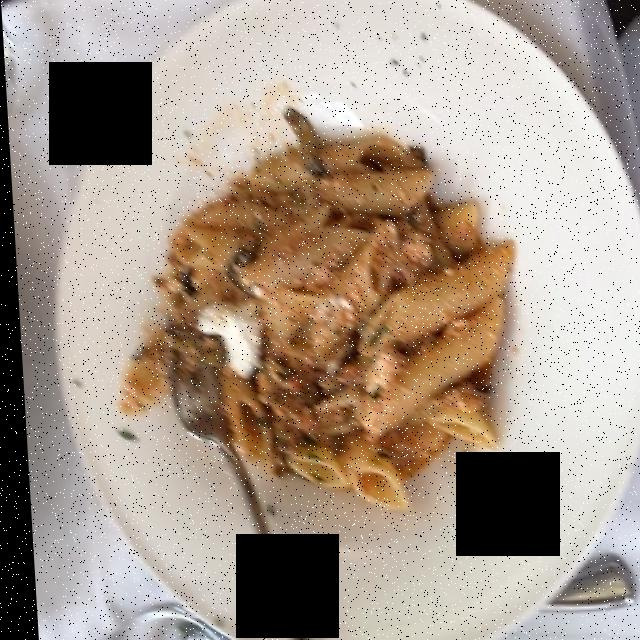pasta-penne: (129, 111, 490, 499)
